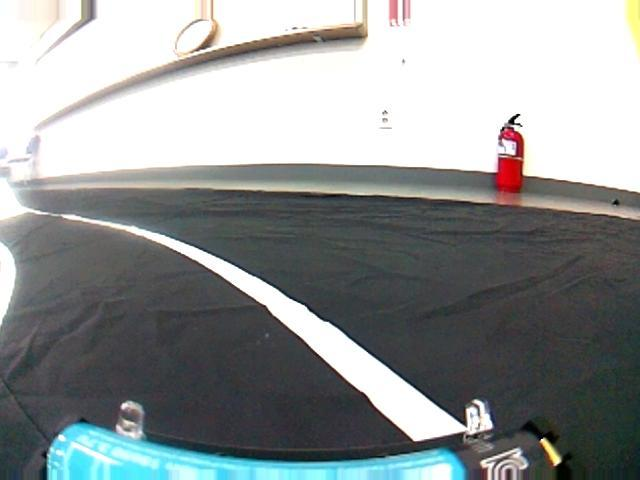left: (0, 213, 590, 479)
